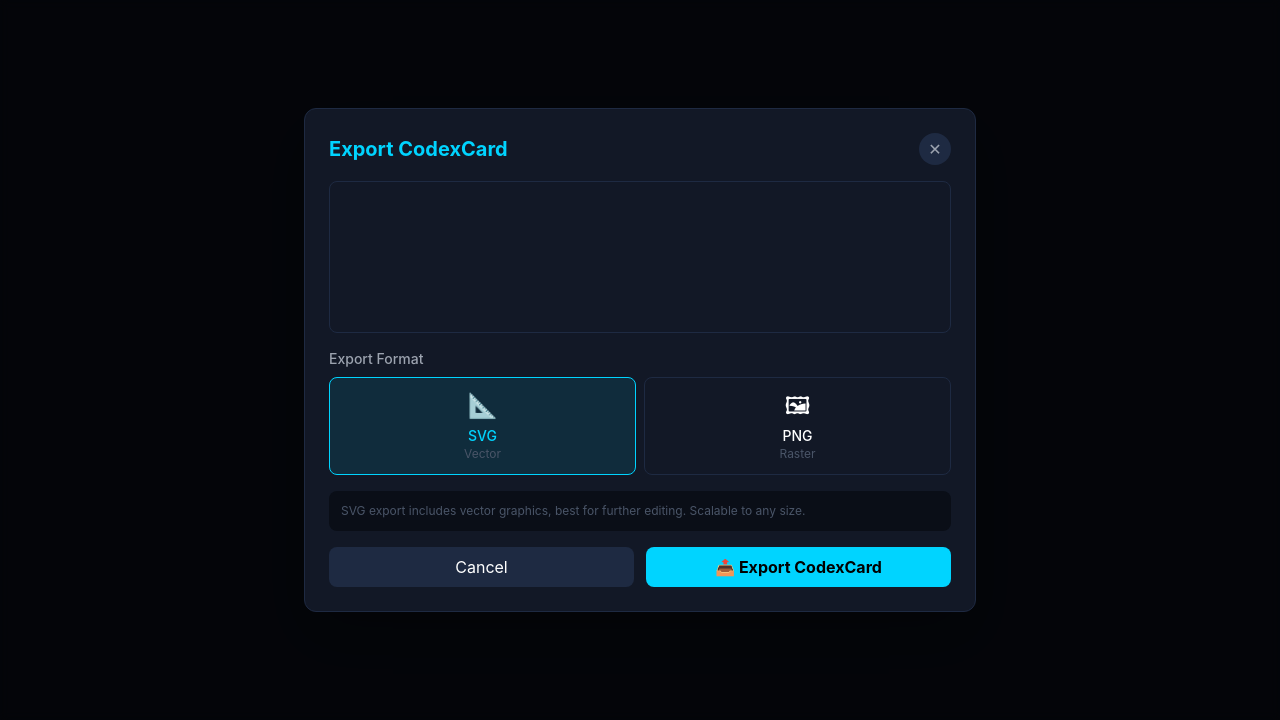
Test: ExportDialog › Dialog Open and Format Selection › should display quality presets when PNG is selected
Click the radio button with test id "format-png": (798, 426) [644,377,951,475]
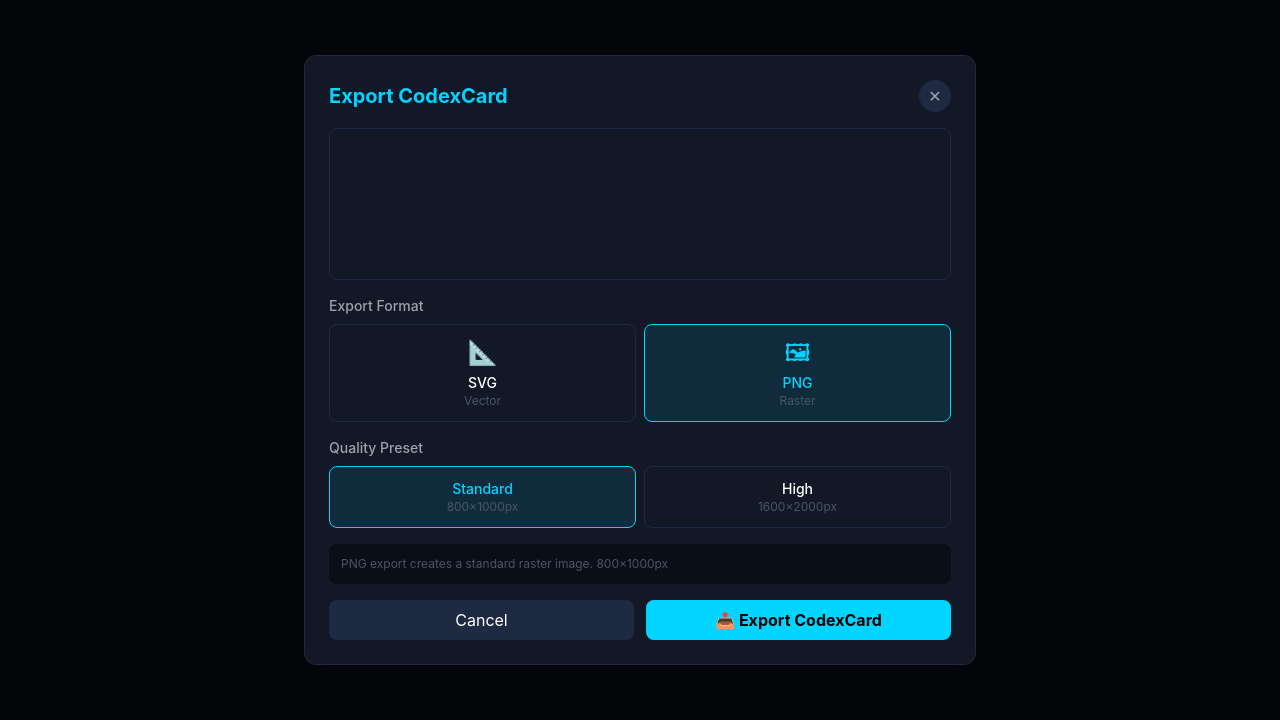
Expected: the radio button with test id "quality-standard" is shown, [329,466,636,528]
Expected: the radio button with test id "quality-high" is shown, [644,466,951,528]
